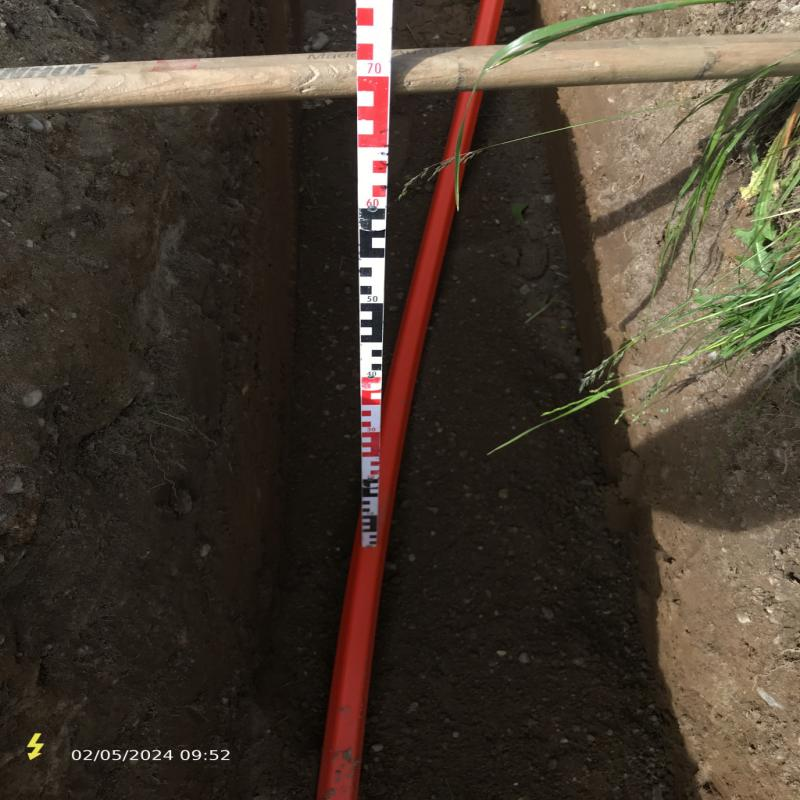Orang-Speednetrohrchen: (317, 93, 482, 800)
